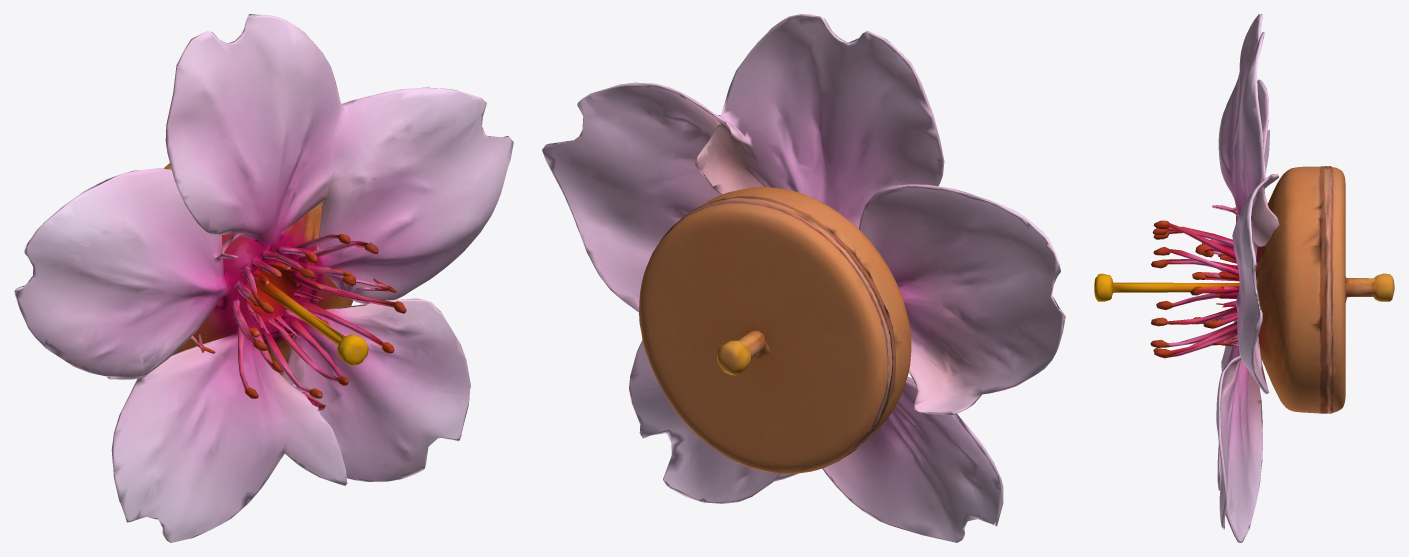
The model's file is flower-follicular.glb.
3 renders of one model, left to right at view 1: azimuth 30°, elevation 25°; view 2: azimuth 150°, elevation 25°; view 3: azimuth 270°, elevation 25°, orthographic. The views are drawn at different scales.
Visible parts, largest first — view 1: tripo_node_e5e40fd3-86f0-4134-95a7-9331b2e25159; view 2: tripo_node_e5e40fd3-86f0-4134-95a7-9331b2e25159; view 3: tripo_node_e5e40fd3-86f0-4134-95a7-9331b2e25159.
Boxes of the visible parts, box(x1,y1,x2,y2) form: tripo_node_e5e40fd3-86f0-4134-95a7-9331b2e25159: box(14, 14, 513, 542); tripo_node_e5e40fd3-86f0-4134-95a7-9331b2e25159: box(542, 14, 1065, 542); tripo_node_e5e40fd3-86f0-4134-95a7-9331b2e25159: box(1094, 14, 1394, 542).
Size of the model in its own units: 0.9807 by 0.9301 by 0.5675.
Materials: 1 (1 with a texture image).
